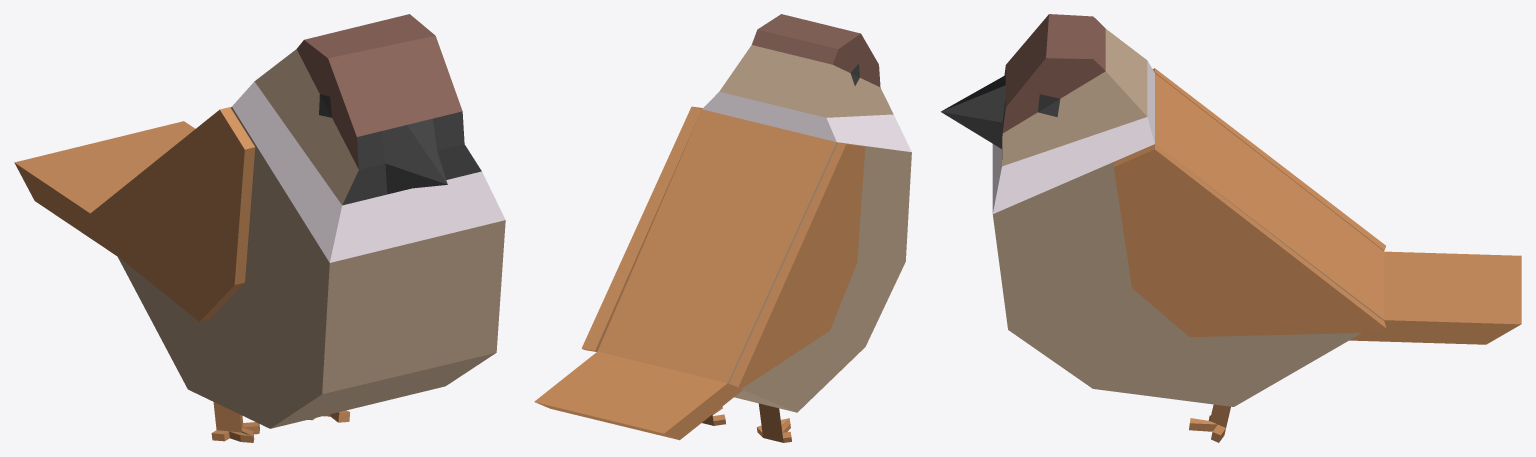
Rendered from Bird 01.glb.
3 views of the same model, side by side, from view 1: azimuth 30°, elevation 25°; view 2: azimuth 150°, elevation 25°; view 3: azimuth 270°, elevation 25° (orthographic). The views are drawn at different scales.
Visible parts, largest first — view 1: Cube, Cube.003; view 2: Cube, Cube.003, Cube.002; view 3: Cube, Cube.002, Cube.003.
Boxes of the visible parts, x1,y1,x2,y2 form: Cube: [14, 14, 505, 442]; Cube.003: [81, 107, 255, 321]; Cube: [534, 14, 911, 442]; Cube.003: [729, 142, 865, 388]; Cube.002: [581, 106, 702, 351]; Cube: [941, 14, 1521, 442]; Cube.002: [1113, 144, 1385, 337]; Cube.003: [1152, 68, 1385, 250].
Size of the model in its own units: 0.9667 by 2.05 by 2.86.
